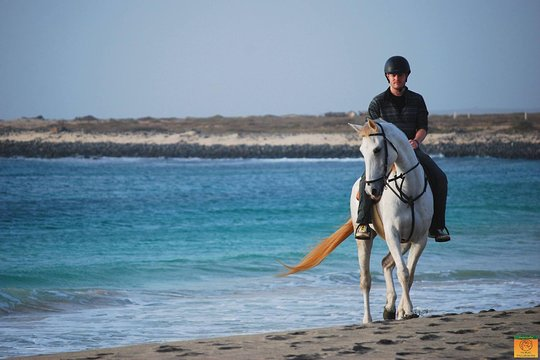horse: (348, 119, 435, 321)
man: (369, 60, 449, 235)
